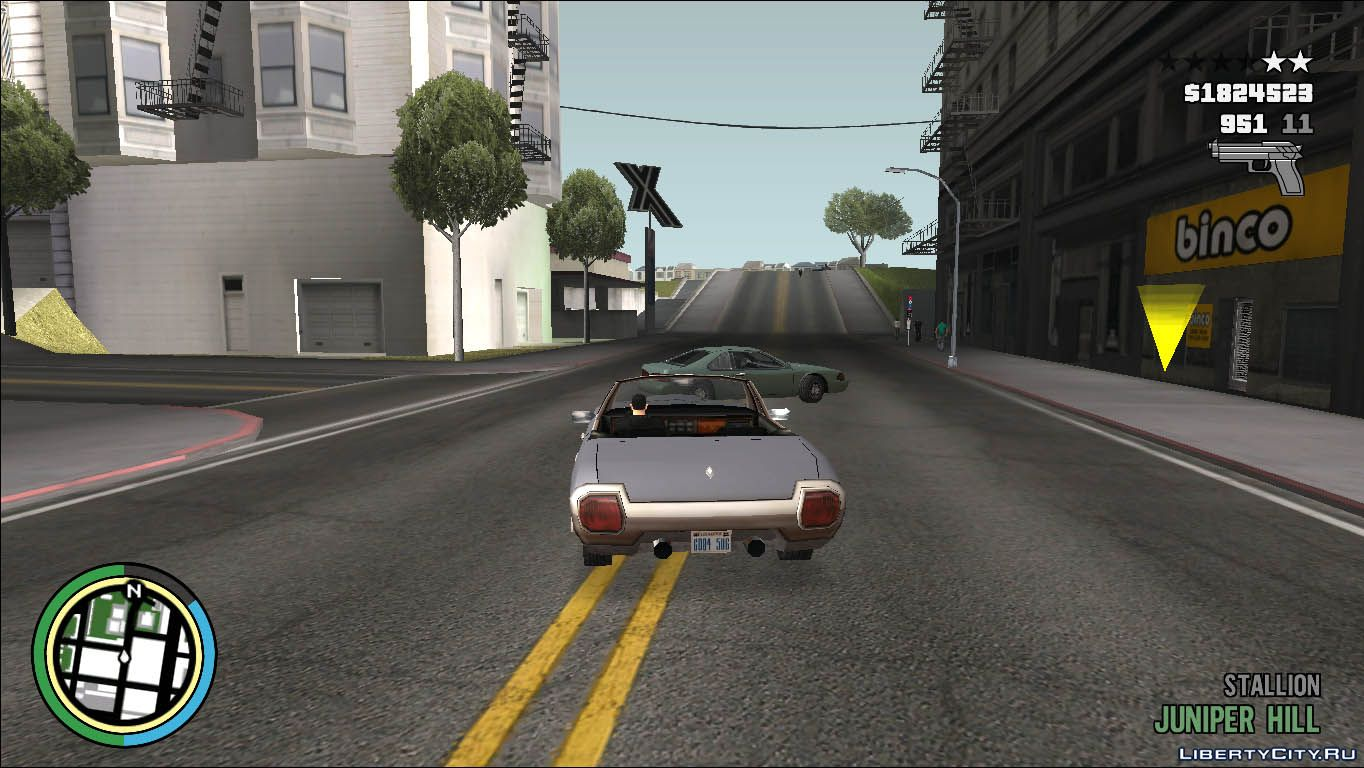car: (572, 376, 847, 573), (638, 339, 854, 412)
